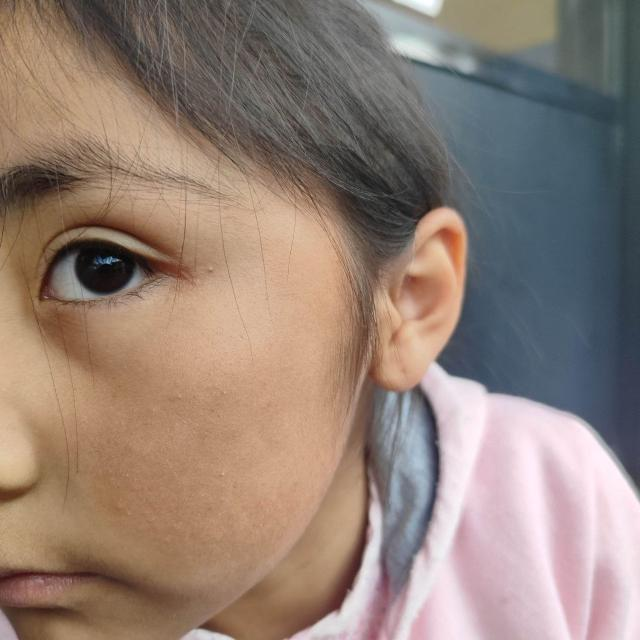ear: (372, 208, 466, 390)
